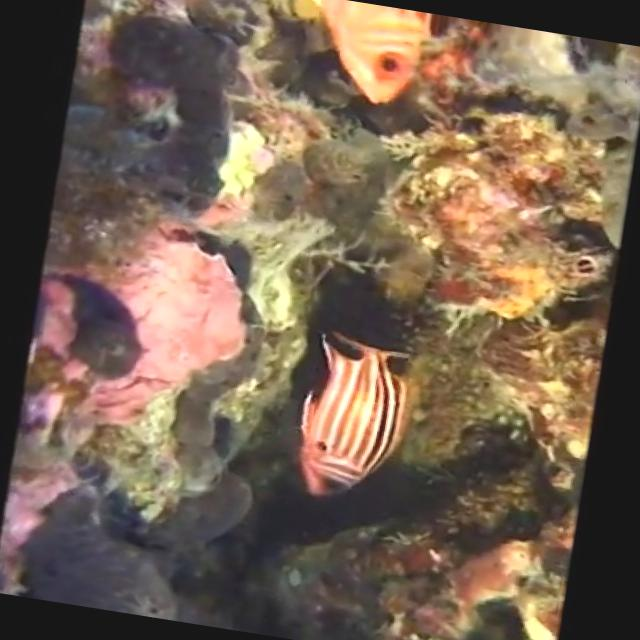Asker Baligi: (284, 324, 421, 509)
